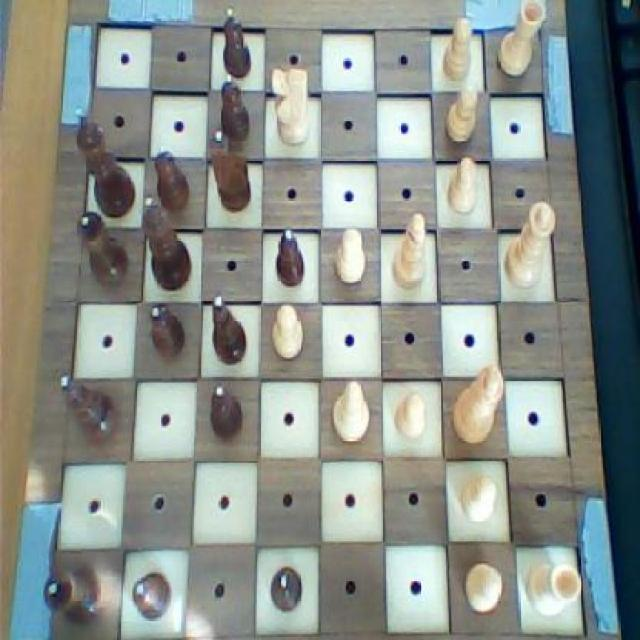bishop: (51, 364, 118, 448), (209, 291, 252, 369)
black-bishop: (71, 99, 140, 222)
black-king: (205, 128, 256, 213)
black-knight: (151, 138, 195, 217), (217, 5, 258, 84), (216, 69, 254, 149), (146, 299, 190, 363), (270, 227, 308, 296), (128, 568, 174, 623), (206, 382, 246, 443), (268, 565, 304, 616)
black-queen: (74, 208, 131, 295), (37, 559, 105, 626)
black-rook: (386, 208, 432, 295), (328, 377, 373, 449)
white-bishop: (448, 356, 508, 456)
white-king: (268, 63, 316, 150)
white-knight: (438, 78, 486, 150), (460, 555, 509, 623), (454, 466, 501, 534), (438, 12, 478, 85), (391, 384, 431, 452), (331, 223, 372, 289), (442, 151, 481, 218), (268, 298, 308, 362)
white-pawn: (500, 194, 556, 298)
white-queen: (496, 0, 546, 81), (522, 552, 584, 616)
